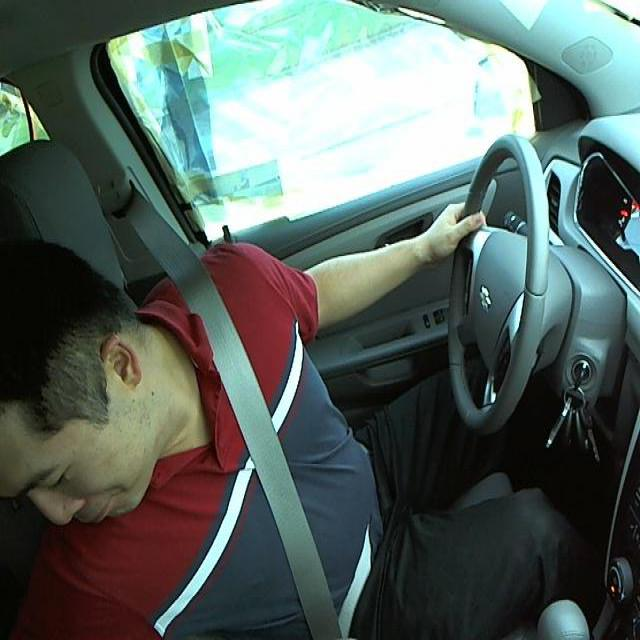seatbelt: (190, 326, 350, 638)
